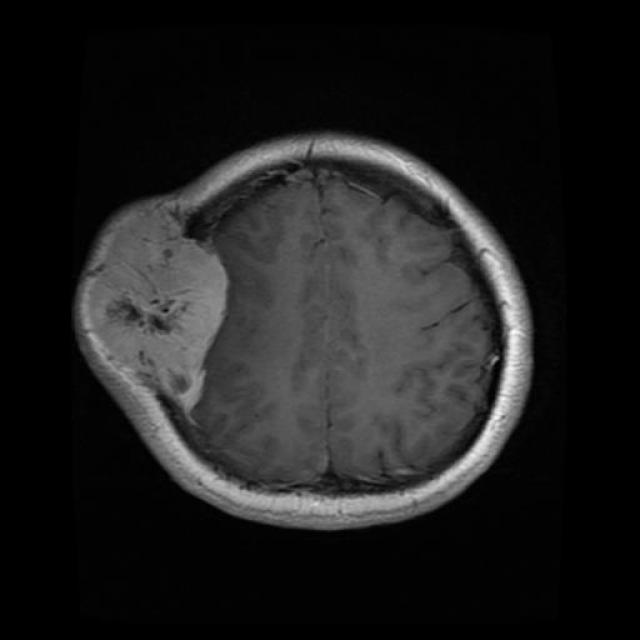meningioma: (81, 198, 228, 415)
